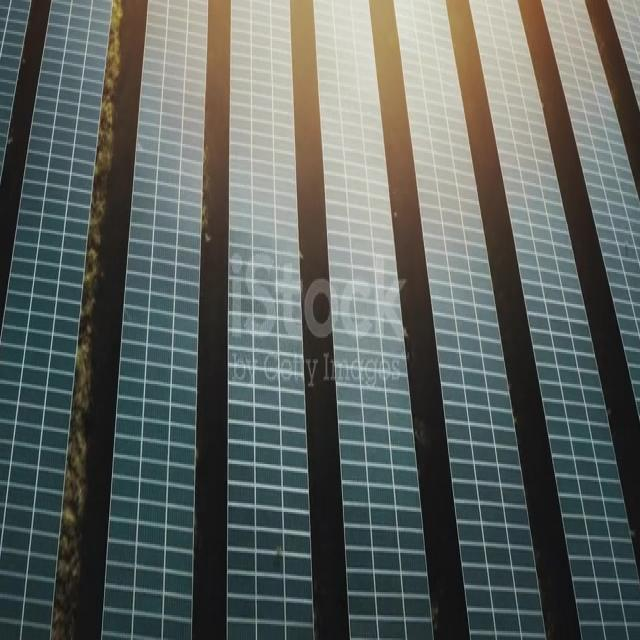solar-panel: (415, 2, 529, 622), (1, 1, 109, 640), (315, 1, 412, 597), (226, 1, 311, 640), (127, 1, 192, 640), (541, 1, 640, 336)
